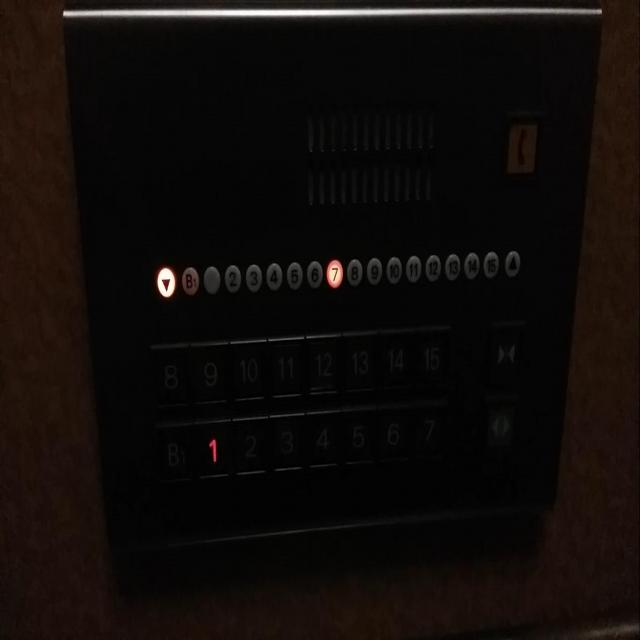1: (190, 413, 234, 480)
10: (227, 335, 270, 403), (385, 254, 402, 285)
11: (264, 334, 308, 401), (404, 252, 422, 284)
12: (302, 330, 346, 398), (424, 251, 442, 282)
13: (340, 327, 384, 396), (444, 250, 461, 282)
14: (378, 323, 419, 392), (462, 250, 480, 279)
15: (412, 321, 452, 387), (482, 248, 500, 280)
2: (228, 412, 271, 478), (223, 262, 242, 295)
3: (266, 408, 308, 474), (244, 260, 263, 294)
4: (303, 406, 347, 474), (265, 261, 283, 292)
5: (342, 402, 385, 470), (285, 259, 303, 291)
6: (305, 258, 323, 288)
7: (325, 256, 344, 289)
8: (149, 337, 192, 410), (345, 256, 363, 286)
9: (186, 335, 232, 408), (365, 255, 383, 286)
B1: (180, 264, 200, 296)
alarm: (503, 246, 521, 278)
call: (504, 112, 538, 180)
down: (155, 264, 177, 301)
empty: (202, 264, 221, 295)
